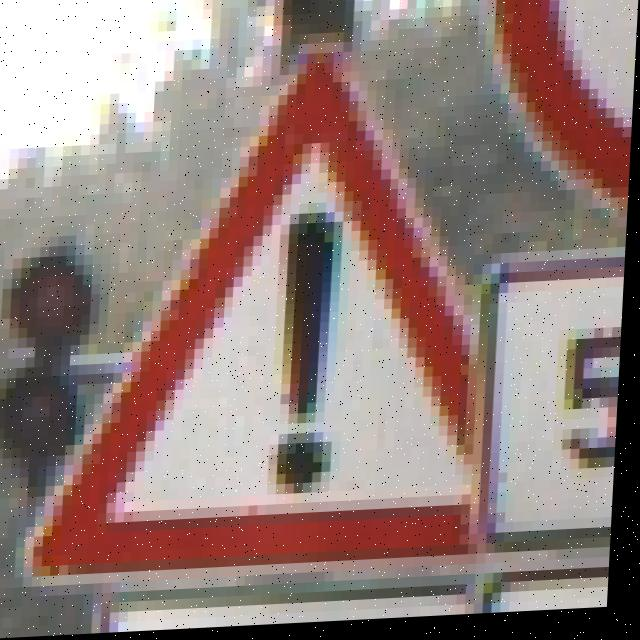speed_limit_50: (493, 267, 624, 583)
warning: (117, 50, 496, 545)
